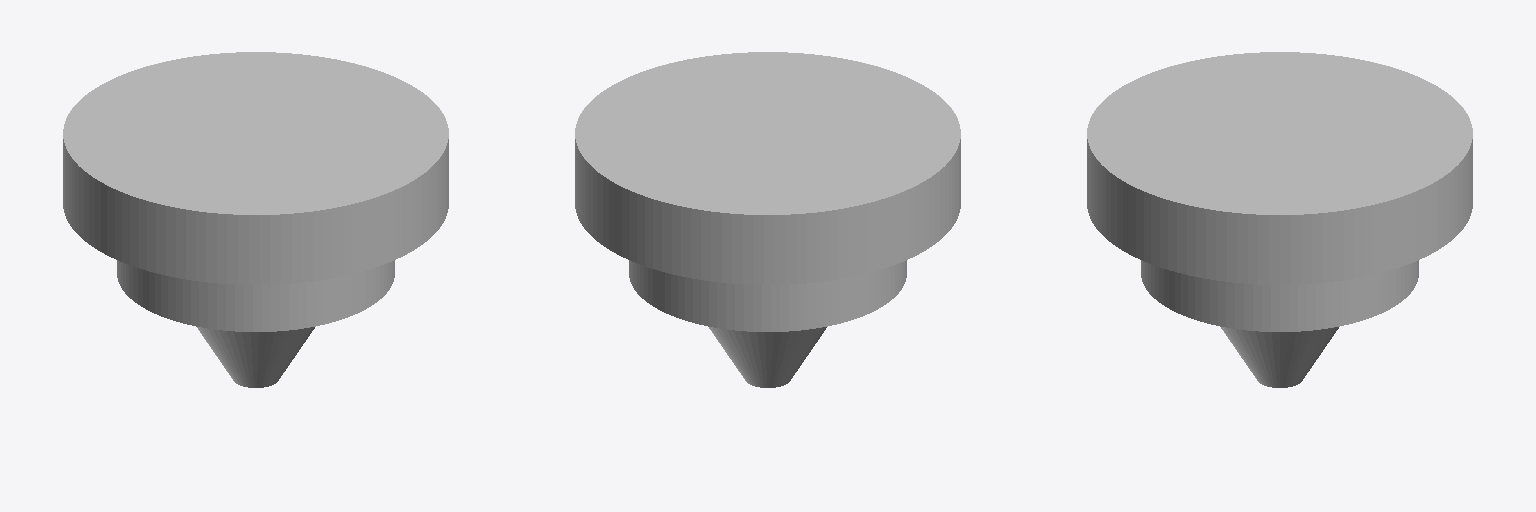
Rendered from TestBlade3.obj.
3 renders of one model, left to right at view 1: azimuth 30°, elevation 25°; view 2: azimuth 150°, elevation 25°; view 3: azimuth 270°, elevation 25°, orthographic.
Bounding box in the file's own units: 0.05 × 0.035 × 0.05.